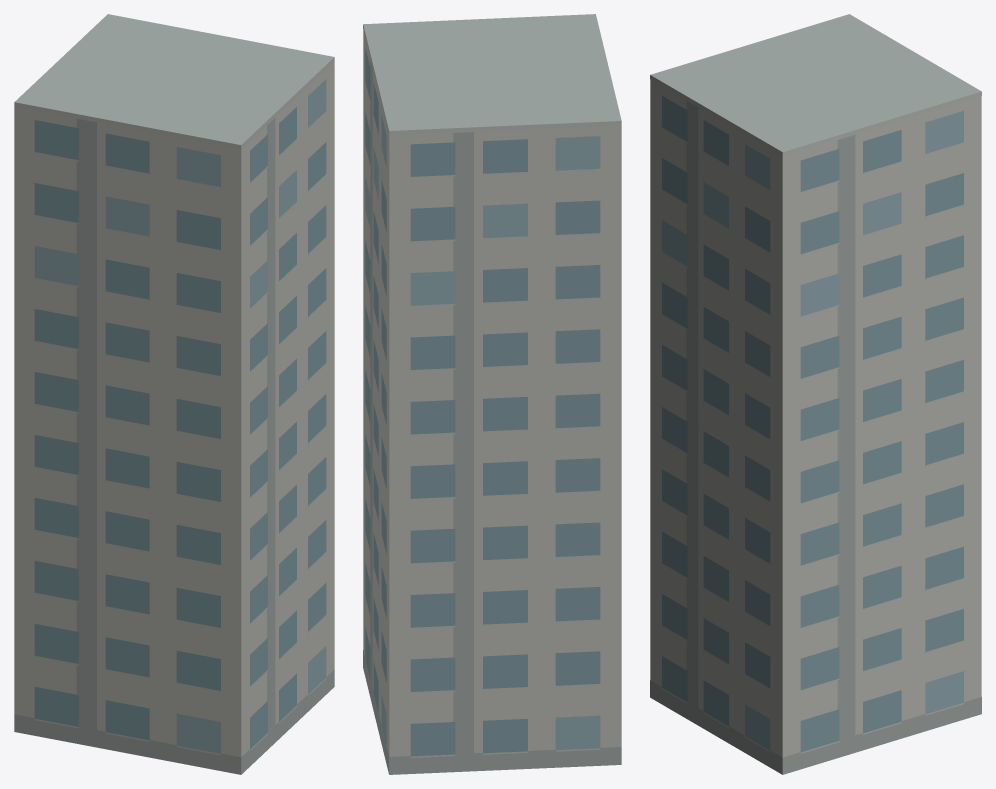
Rendered from residential-63a92774-5efb-40cb-8ce5-d6cf9193a24d.glb.
3 views of the same model, side by side, from view 1: azimuth 30°, elevation 25°; view 2: azimuth 150°, elevation 25°; view 3: azimuth 270°, elevation 25° (orthographic). The views are drawn at different scales.
Visible parts, largest first — view 1: residential-63a92774-5efb-40cb-8ce5-d6cf9193a24d.tmp; view 2: residential-63a92774-5efb-40cb-8ce5-d6cf9193a24d.tmp; view 3: residential-63a92774-5efb-40cb-8ce5-d6cf9193a24d.tmp.
Boxes of the visible parts, box(x1,y1,x2,y2) form: residential-63a92774-5efb-40cb-8ce5-d6cf9193a24d.tmp: box(14, 14, 334, 774); residential-63a92774-5efb-40cb-8ce5-d6cf9193a24d.tmp: box(363, 14, 621, 774); residential-63a92774-5efb-40cb-8ce5-d6cf9193a24d.tmp: box(650, 14, 981, 774).
Size of the model in its own units: 15.72 by 33 by 15.94.
